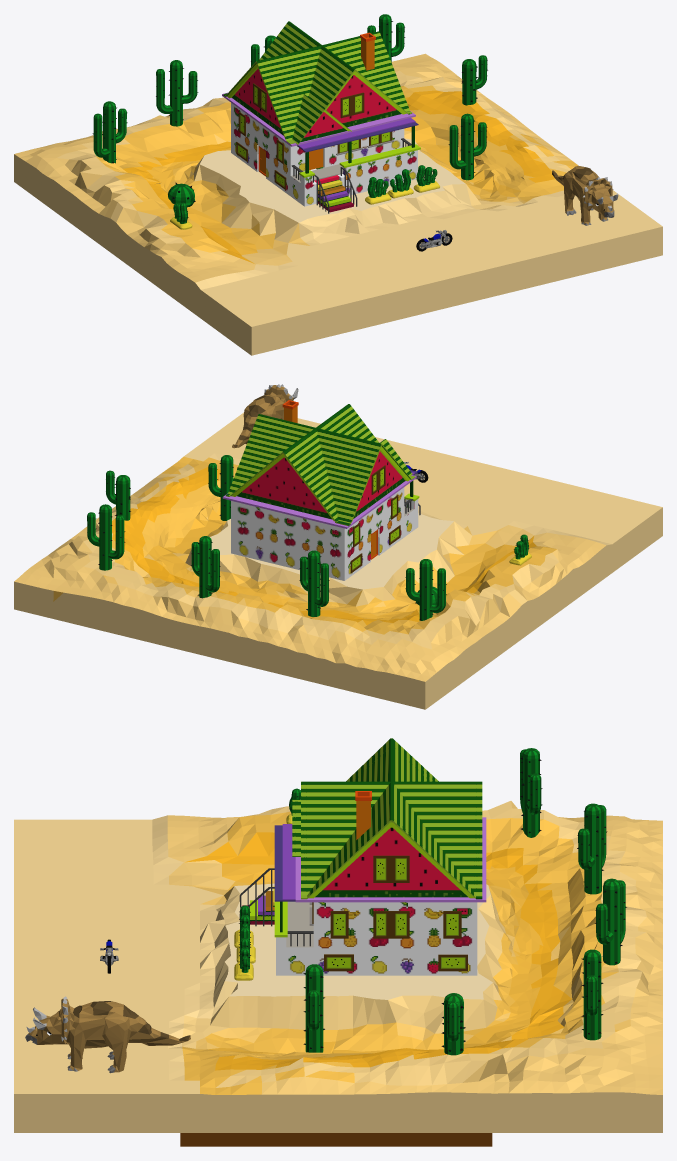
The picture shows the model from 3 angles, top to bottom: view 1: azimuth 30°, elevation 25°; view 2: azimuth 150°, elevation 25°; view 3: azimuth 270°, elevation 25°; orthographic projection. The views are drawn at different scales.
Parts seen in each view (by area): view 1: Cube.001, Cube.1063, ANIMAL_Triceratops, Cylinder.044, Cylinder.037, Cylinder.045, Cylinder.038, Cylinder.042, Cylinder.039, Cylinder.041; view 2: Cube.001, Cube.1063, Cylinder.042, Cylinder.045, Cylinder.044, ANIMAL_Triceratops, Cylinder.043, Cylinder.037, Cylinder.038; view 3: Cube.001, Cube.1063, ANIMAL_Triceratops, UNDERGROUND_ART_PIECE_VAN_GOGH, Cylinder.044, Cylinder.043, Cylinder.045, Cylinder.042, Cylinder.037, Cylinder.038, Cylinder.041.
Boxes of the visible parts, x1,y1,x2,y2 form: Cube.001: (14, 53, 662, 355); Cube.1063: (222, 21, 420, 213); ANIMAL_Triceratops: (552, 165, 618, 225); Cylinder.044: (156, 60, 198, 126); Cylinder.037: (448, 113, 487, 180); Cylinder.045: (92, 101, 127, 163); Cylinder.038: (461, 55, 487, 105); Cylinder.042: (367, 14, 405, 62); Cylinder.039: (365, 177, 391, 204); Cylinder.041: (413, 165, 439, 192); Cube.001: (14, 412, 662, 709); Cube.1063: (222, 400, 420, 580); Cylinder.042: (87, 504, 125, 570); Cylinder.045: (405, 559, 446, 620); Cylinder.044: (299, 550, 329, 616); ANIMAL_Triceratops: (232, 384, 298, 448); Cylinder.043: (191, 536, 220, 598); Cylinder.037: (208, 455, 237, 520); Cylinder.038: (106, 470, 130, 520); Cube.001: (14, 801, 662, 1132); Cube.1063: (239, 738, 486, 975); ANIMAL_Triceratops: (25, 996, 190, 1073); UNDERGROUND_ART_PIECE_VAN_GOGH: (180, 1133, 492, 1146); Cylinder.044: (577, 803, 607, 894); Cylinder.043: (595, 878, 626, 965); Cylinder.045: (520, 748, 542, 837); Cylinder.042: (581, 949, 603, 1040); Cylinder.037: (303, 964, 324, 1052); Cylinder.038: (441, 993, 465, 1055); Cylinder.041: (234, 938, 253, 980).
Bounding box in the file's own units: 4002 × 1752 × 4001.
Materials: 27 (5 with a texture image).
